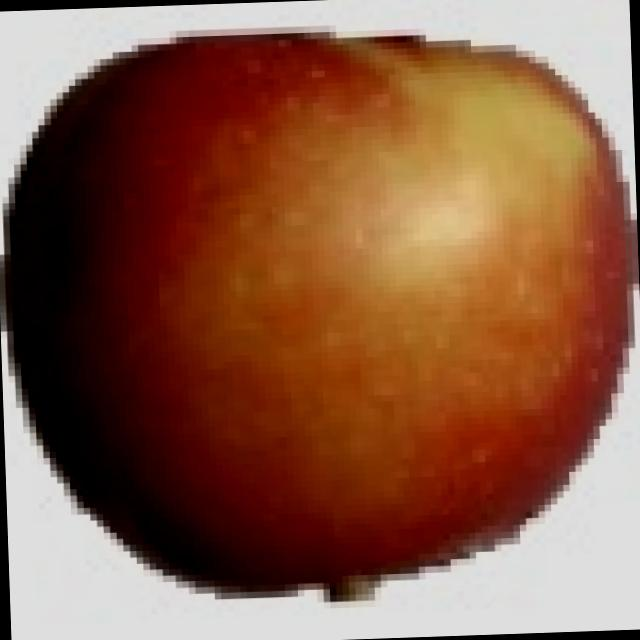apple: (0, 16, 640, 611)
